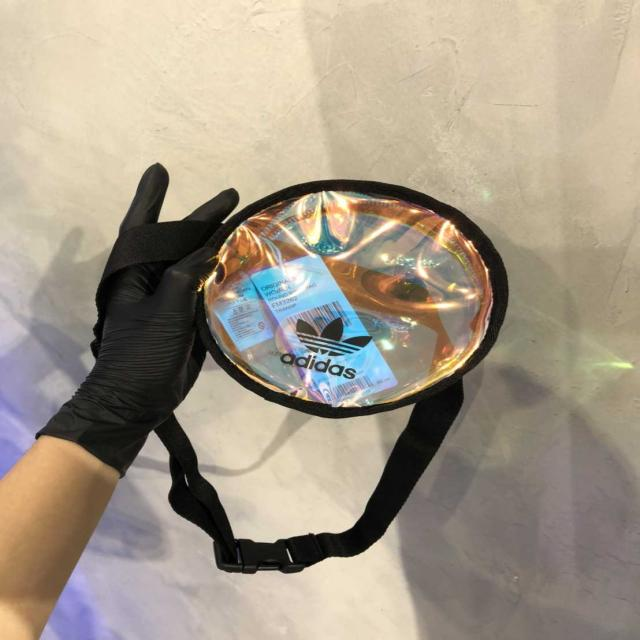handbag: (186, 166, 516, 422)
